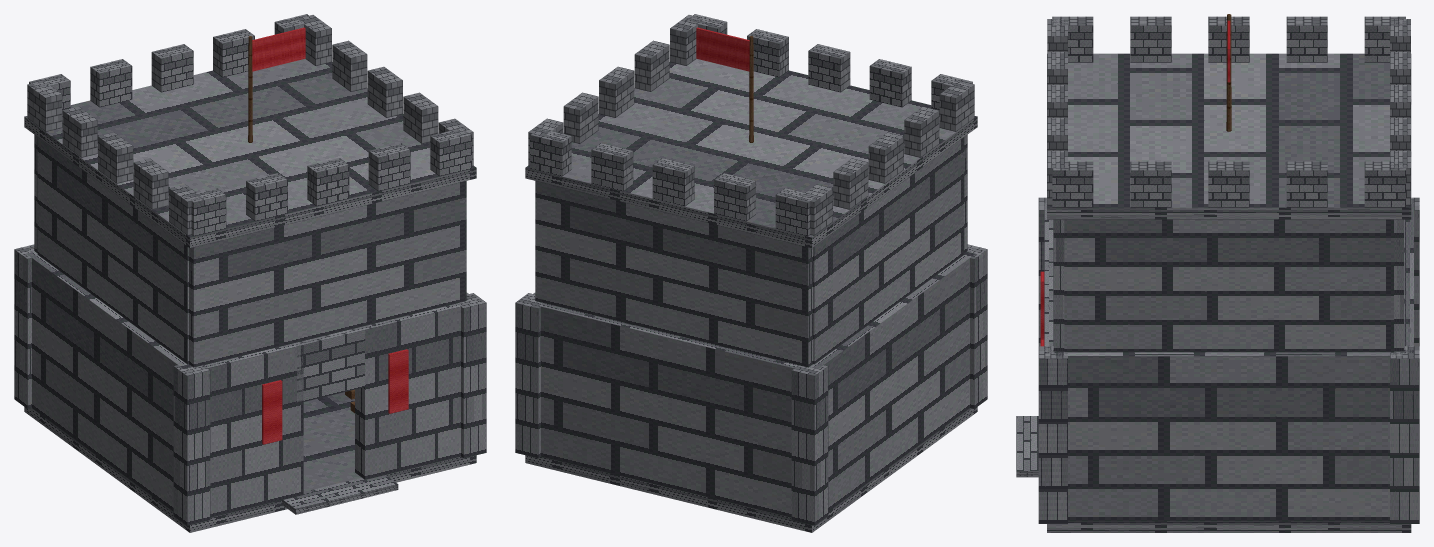
The model's file is torre_de_armas.glb.
The picture shows the model from 3 angles, left to right: view 1: azimuth 30°, elevation 25°; view 2: azimuth 150°, elevation 25°; view 3: azimuth 270°, elevation 25°; orthographic projection. The views are drawn at different scales.
Visible parts, largest first — view 1: Roof_Upper_Tower, Walls_Lower, Floor_Ground; view 2: Roof_Upper_Tower, Walls_Lower, Floor_Ground; view 3: Roof_Upper_Tower, Walls_Lower, Floor_Ground.
Boxes of the visible parts, box(x1,y1,x2,y2) form: Roof_Upper_Tower: box(24, 14, 476, 367); Walls_Lower: box(14, 244, 486, 525); Floor_Ground: box(24, 392, 476, 532); Roof_Upper_Tower: box(525, 14, 977, 367); Walls_Lower: box(515, 244, 987, 525); Floor_Ground: box(525, 407, 977, 532); Roof_Upper_Tower: box(1047, 14, 1411, 352); Walls_Lower: box(1038, 197, 1419, 523); Floor_Ground: box(1016, 416, 1411, 532).
Size of the model in its own units: 8.78 by 11.22 by 9.29.
Materials: 1 (1 with a texture image).
